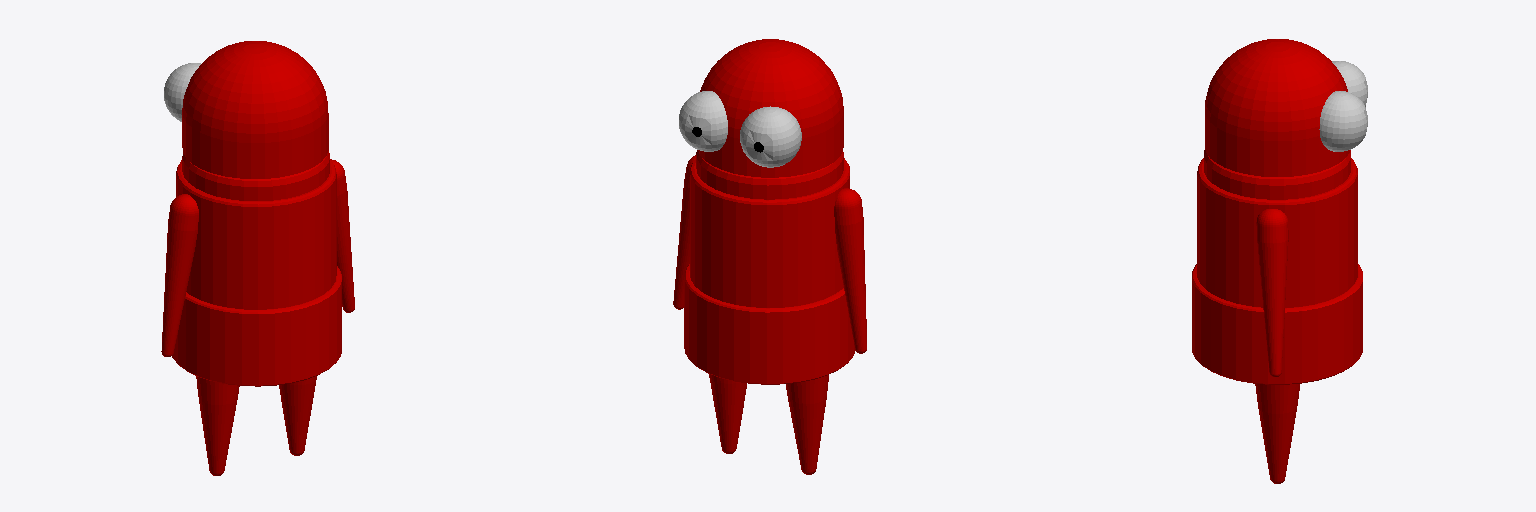
The model's file is Repo.obj.
The picture shows the model from 3 angles: view 1: azimuth 30°, elevation 25°; view 2: azimuth 150°, elevation 25°; view 3: azimuth 270°, elevation 25°; orthographic projection.
Parts seen in each view (by area): view 1: Cylinder.013, Cylinder.003, Cylinder.010, Cylinder.014, Cylinder.012, Cylinder.016, Cylinder.017, Cylinder.015, Sphere; view 2: Cylinder.003, Cylinder.010, Cylinder.013, Cylinder.014, Cylinder.012, Sphere, Cylinder.016, Sphere.001, Cylinder.017, Cylinder.015; view 3: Cylinder.013, Cylinder.003, Cylinder.010, Cylinder.015, Cylinder.012, Cylinder.017, Sphere.001, Sphere.
Boxes of the visible parts, box(x1,y1,x2,y2) form: Cylinder.013: box(182, 41, 328, 178); Cylinder.003: box(176, 160, 336, 309); Cylinder.010: box(172, 266, 341, 386); Cylinder.014: box(161, 194, 198, 356); Cylinder.012: box(182, 151, 329, 200); Cylinder.016: box(196, 376, 239, 475); Cylinder.017: box(279, 376, 316, 455); Cylinder.015: box(330, 159, 354, 312); Sphere: box(164, 63, 200, 121); Cylinder.003: box(690, 158, 849, 307); Cylinder.010: box(684, 264, 854, 384); Cylinder.013: box(698, 39, 843, 177); Cylinder.014: box(834, 188, 866, 353); Cylinder.012: box(696, 150, 843, 199); Sphere: box(740, 106, 801, 167); Cylinder.016: box(786, 375, 828, 474); Sphere.001: box(679, 91, 727, 151); Cylinder.017: box(709, 374, 746, 453); Cylinder.015: box(673, 155, 695, 309); Cylinder.013: box(1205, 39, 1349, 176); Cylinder.003: box(1197, 158, 1357, 307); Cylinder.010: box(1192, 264, 1362, 384); Cylinder.015: box(1256, 209, 1288, 376); Cylinder.012: box(1204, 150, 1350, 199); Cylinder.017: box(1255, 384, 1299, 483); Sphere.001: box(1319, 91, 1367, 151); Sphere: box(1332, 61, 1367, 106).
Size of the model in its own units: 1.68 by 3.5 by 1.34.